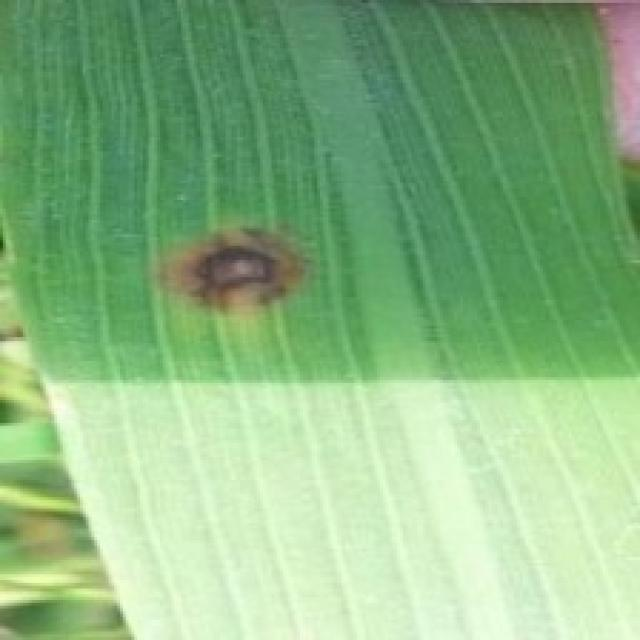Unhealthy: (156, 223, 306, 319)
